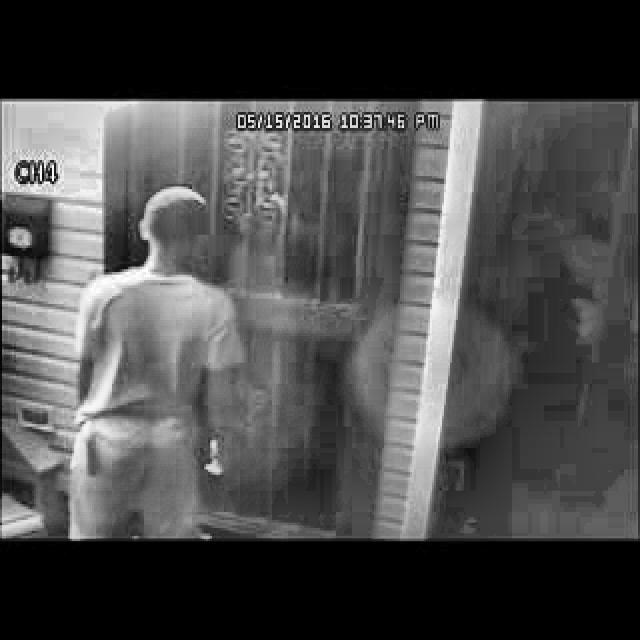burglary: (59, 172, 274, 538)
